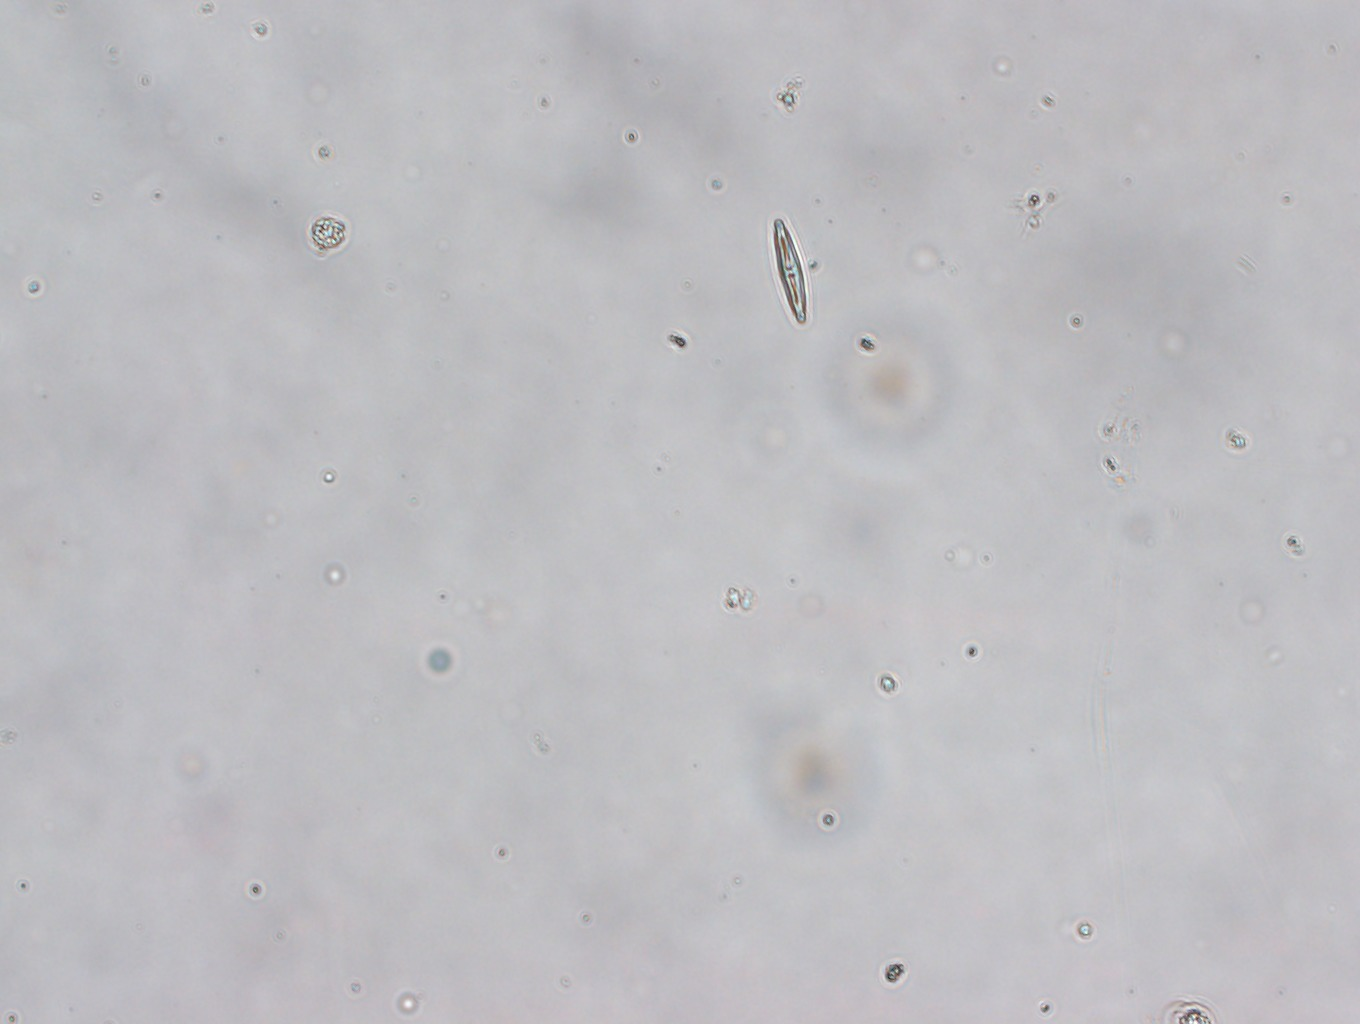navicula: (769, 213, 810, 328)
